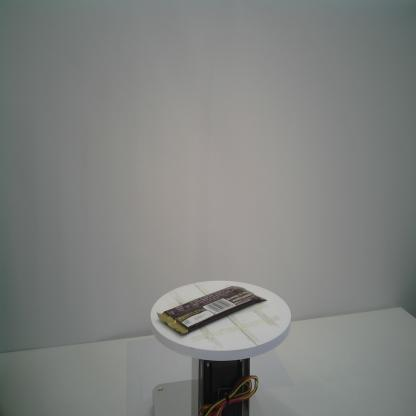Chocolate: (155, 285, 268, 336)
